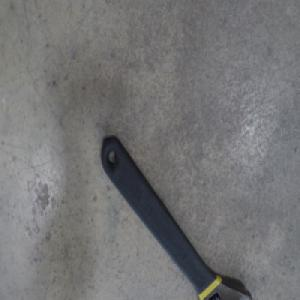AdjustableWrench: (99, 136, 253, 300)
